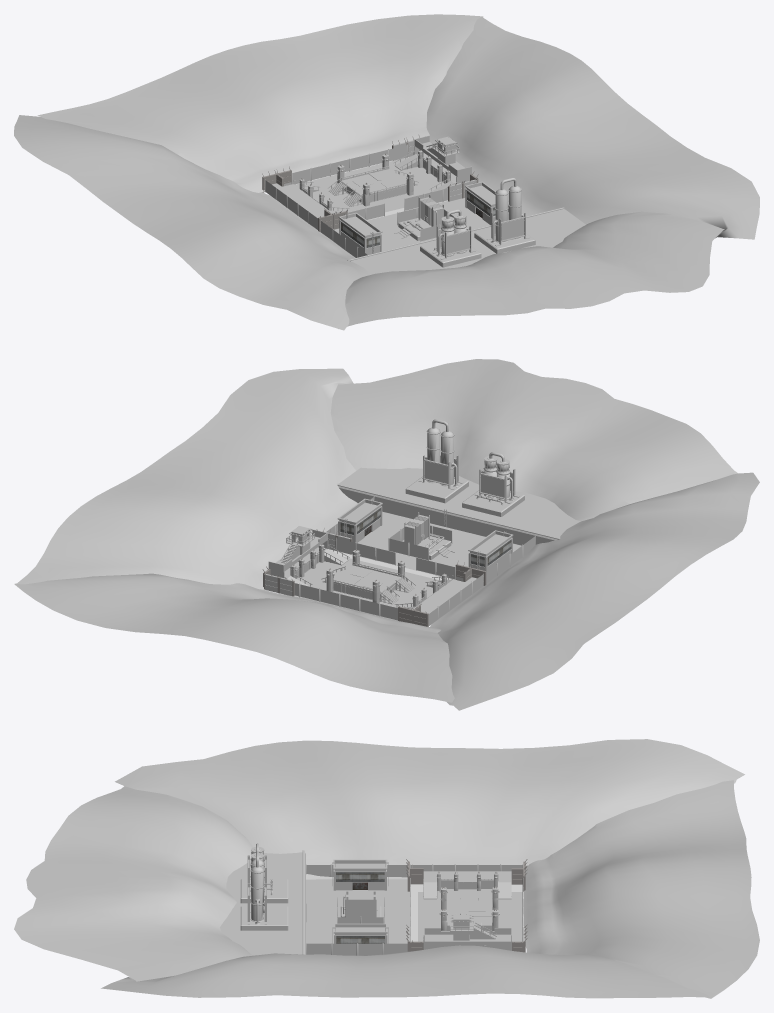
Rendered from Env Structure 02.fbx.
3 renders of one model, top to bottom at view 1: azimuth 30°, elevation 25°; view 2: azimuth 150°, elevation 25°; view 3: azimuth 270°, elevation 25°, orthographic. The views are drawn at different scales.
Visible parts, largest first — view 1: Plane.005, Object038, Plane.003, Cube.001, Cube.004, Cube.081, Cube.011, Fence.001, Cube.012, colon2_2colons_and_floor_low.001, Cylinder.004, Fence.007 (+1 smaller); view 2: Plane.005, Cube.001, Object038, Plane.003, Cube.004, Plane.009, Cube.081, Cube.012, Fence.001, Cube.011, colon2_2colons_and_floor_low.001, Fence (+5 smaller); view 3: Plane.005, Plane.003, Cube.001, Object038, Cube.004, Cube.011, Fence.005, Cube.012, colon2_2colons_and_floor_low.001, Fence.007, Plane, Cube.081 (+2 smaller).
Part boxes in pixels (x1,y1,x2,y2): Plane.005: (14, 14, 759, 330); Object038: (394, 178, 535, 267); Plane.003: (298, 157, 489, 251); Cube.001: (350, 209, 585, 274); Cube.004: (272, 135, 471, 217); Cube.081: (327, 166, 418, 206); Cube.011: (338, 212, 382, 254); Fence.001: (291, 144, 407, 184); Cube.012: (465, 181, 508, 225); colon2_2colons_and_floor_low.001: (299, 149, 450, 210); Cylinder.004: (262, 138, 463, 231); Fence.007: (265, 179, 317, 229); Plane.005: (14, 359, 759, 710); Cube.001: (339, 467, 580, 544); Object038: (403, 419, 524, 559); Plane.003: (294, 511, 521, 620); Cube.004: (268, 526, 476, 613); Plane.009: (328, 486, 557, 580); Cube.081: (321, 562, 415, 604); Cube.012: (337, 498, 382, 543); Fence.001: (294, 583, 397, 620); Cube.011: (468, 530, 513, 571); colon2_2colons_and_floor_low.001: (291, 543, 446, 606); Fence: (335, 537, 455, 579); Plane.005: (14, 739, 759, 998); Plane.003: (306, 879, 522, 943); Cube.001: (220, 852, 302, 955); Object038: (240, 843, 381, 930); Cube.004: (423, 871, 511, 950); Cube.011: (332, 859, 388, 890); Fence.005: (306, 943, 407, 955); Cube.012: (332, 923, 388, 943); colon2_2colons_and_floor_low.001: (437, 871, 498, 930); Fence.007: (410, 864, 523, 871); Plane: (410, 884, 523, 941); Cube.081: (446, 898, 492, 930).
Bounding box in the file's own units: 29473 × 4465 × 35909.
